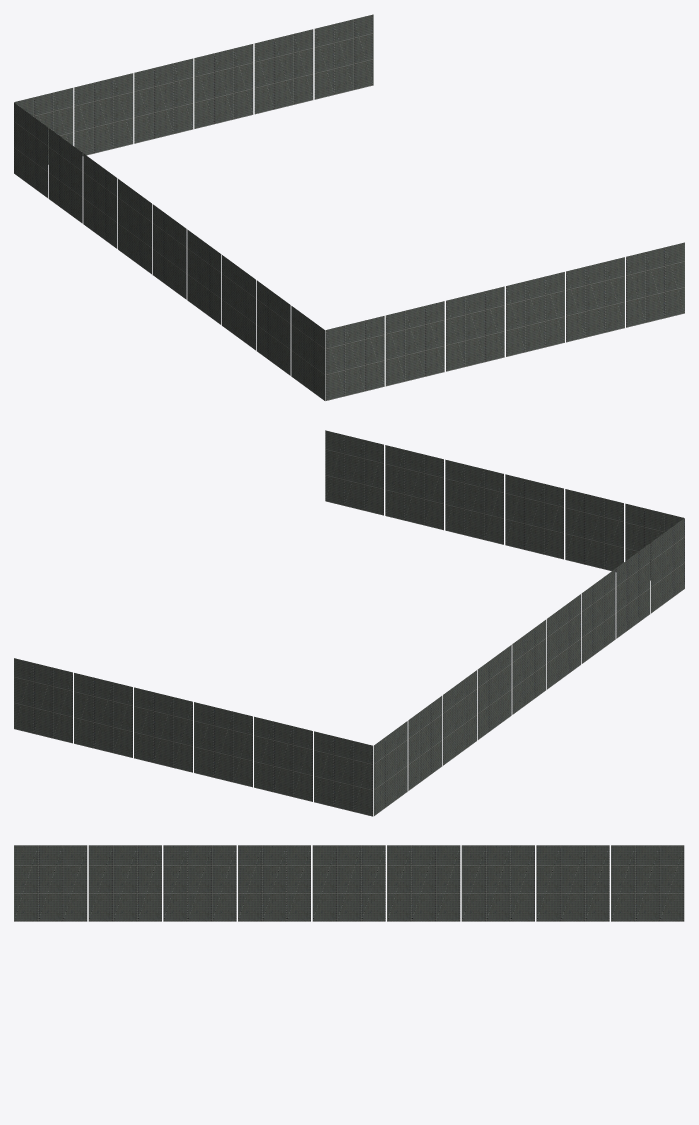
Rendered from st_011_fence.fbx.
3 views of the same model, one above another, from view 1: azimuth 30°, elevation 25°; view 2: azimuth 150°, elevation 25°; view 3: azimuth 270°, elevation 25° (orthographic). The views are drawn at different scales.
Parts seen in each view (by area): view 1: st_011_Fence; view 2: st_011_Fence; view 3: st_011_Fence.
Boxes of the visible parts, <box> form: st_011_Fence: <box>14,14,684,400</box>; st_011_Fence: <box>14,430,684,816</box>; st_011_Fence: <box>14,845,684,921</box>.
Bounding box in the file's own units: 162 × 30.53 × 243.
